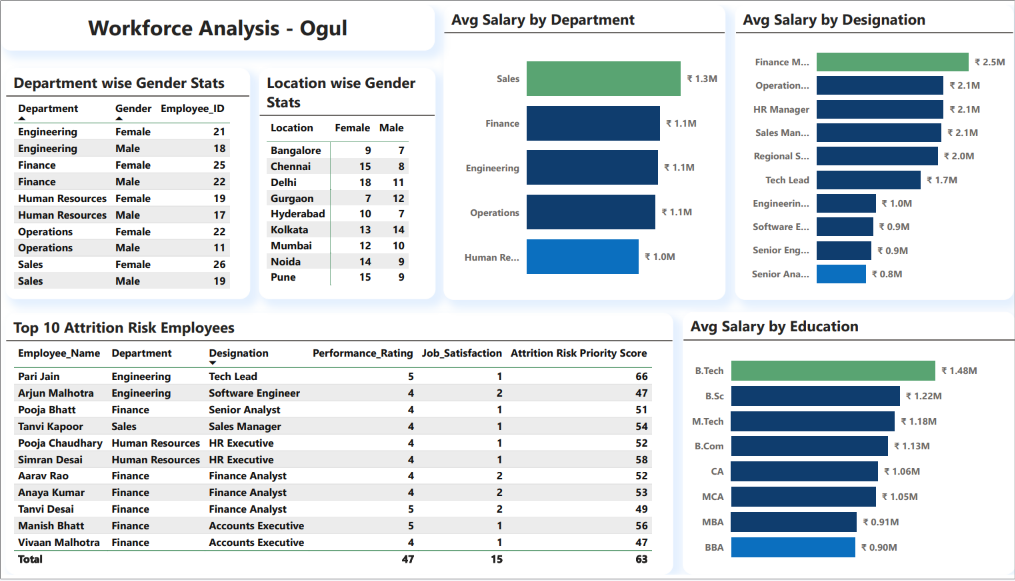

The dashboard page shown, as its layout file describes it:
{"tool":"powerbi","page":{"name":"Workforce Analysis","canvas":[1280,720],"ordinal":3},"visuals":[{"type":"tableEx","title":"Top 10 Attrition Risk Employees","fields":{"Values":["HR_Data.Employee_Name","HR_Data.Department","HR_Data.Designation","Sum(HR_Data.Performance_Rating)","Sum(HR_Data.Job_Satisfaction)","HR_Data.Attrition Risk Priority Score"]},"box":[6.2,388.7,842.6,331.1],"z":0},{"type":"tableEx","title":"Department wise Gender Stats","fields":{"Values":["HR_Data.Department","HR_Data.Gender","Divide(CountNonNull(HR_Data.Employee_ID), ScopedEval(CountNonNull(HR_Data.Employee_ID), []))"]},"box":[6.1,80.3,309.1,292.4],"z":1000},{"type":"pivotTable","title":"Location wise Gender Stats","fields":{"Columns":["HR_Data.Gender"],"Values":["CountNonNull(HR_Data.Employee_ID)"],"Rows":["HR_Data.Location"]},"box":[325.8,80.3,222.7,292.4],"z":2000},{"type":"clusteredBarChart","fields":{"Category":["HR_Data.Department"],"Y":["All meaures.Avg Salary"]},"box":[559.1,0,356.1,372.7],"z":3000},{"type":"clusteredBarChart","fields":{"Y":["All meaures.Avg Salary"],"Category":["HR_Data.Designation"]},"box":[927.3,0,351.5,372.7],"z":4000},{"type":"clusteredBarChart","fields":{"Y":["All meaures.Avg Salary"],"Category":["HR_Data.Education"]},"box":[860.6,387.9,419.7,331.8],"z":5000},{"type":"textbox","box":[0,0,548.5,57.6],"z":7000}]}

Visuals, with their boxes in screenshot pixels (x1, y1, x2, y2), scaled from the page's 1280x720 canvas onto the 1015x581 screenshot:
"Top 10 Attrition Risk Employees" tableEx: box(5, 314, 673, 580)
"Department wise Gender Stats" tableEx: box(5, 65, 250, 301)
"Location wise Gender Stats" pivotTable: box(258, 65, 435, 301)
clusteredBarChart - HR_Data.Department x All meaures.Avg Salary: box(443, 0, 726, 301)
clusteredBarChart - All meaures.Avg Salary x HR_Data.Designation: box(735, 0, 1014, 301)
clusteredBarChart - All meaures.Avg Salary x HR_Data.Education: box(682, 313, 1014, 580)
textbox: box(0, 0, 435, 46)
